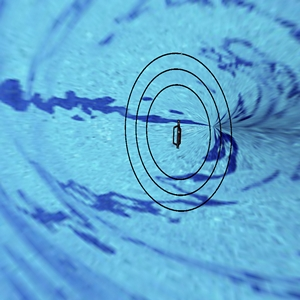circle: (109, 28, 247, 225)
submarine: (164, 117, 188, 156)
